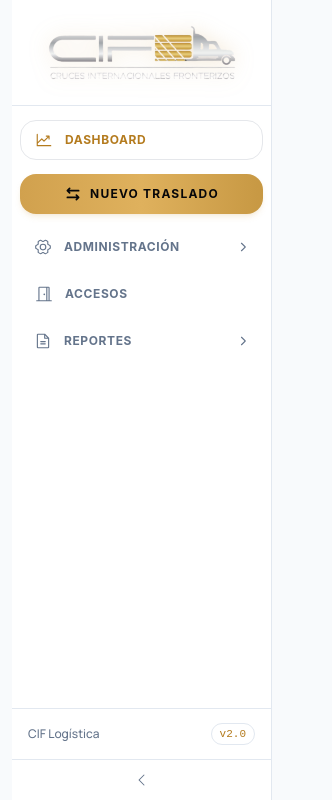
Test: Sidebar › debería mostrar u ocultar secciones hijas al hacer clic (toggle)
Expected: the text "Clientes" is not shown
Clic para expandir
Click the button "Administración".
click(142, 247)  # box [20, 228, 263, 266]
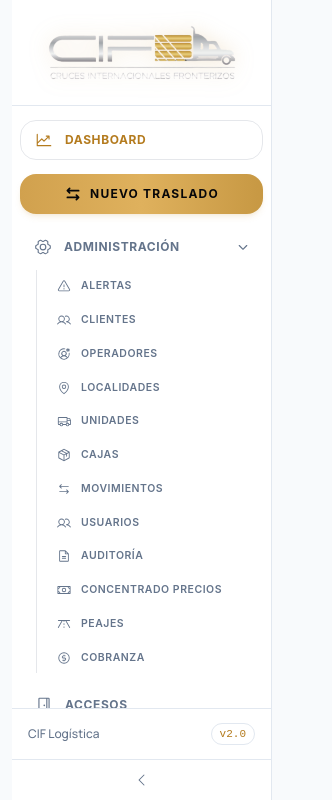
Expected: the text "Clientes" is shown, [81, 312, 136, 328]
Expected: the text "Operadores" is shown, [81, 346, 158, 362]
Clic para contraer
Click the button "Administración".
click(142, 247)  # box [20, 228, 263, 266]
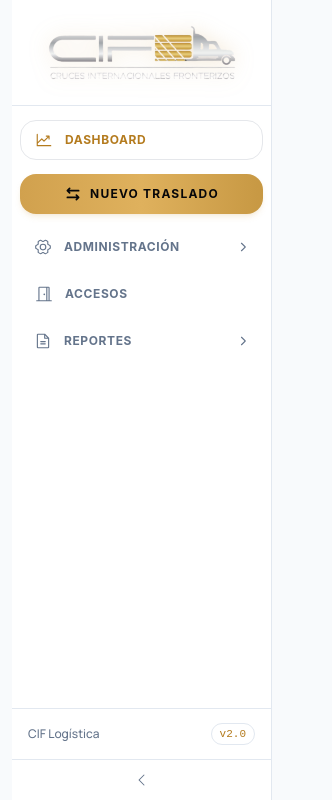
Expected: the link "Clientes" is gone
